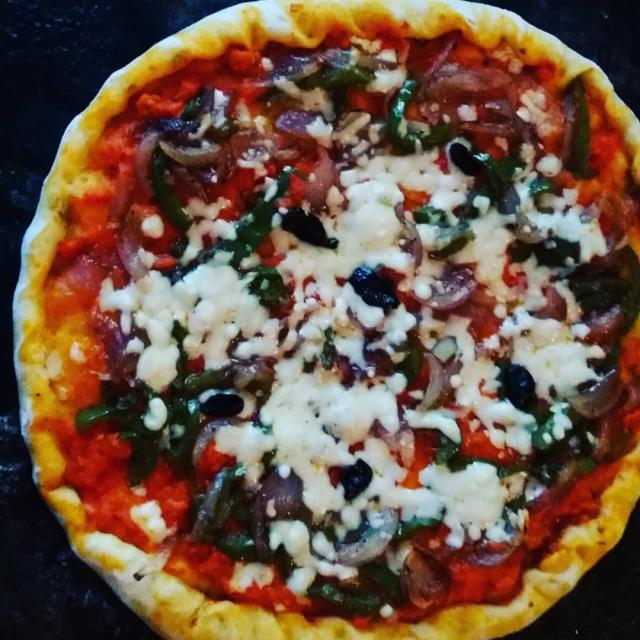black_olives: (342, 262, 402, 312), (279, 204, 342, 249), (497, 356, 536, 411), (336, 461, 374, 502), (197, 388, 245, 420), (448, 140, 485, 178)
mushrooms: (158, 111, 226, 169), (404, 547, 451, 607), (572, 371, 623, 421), (226, 355, 274, 393), (330, 104, 371, 142)
pizza: (10, 0, 640, 640)
